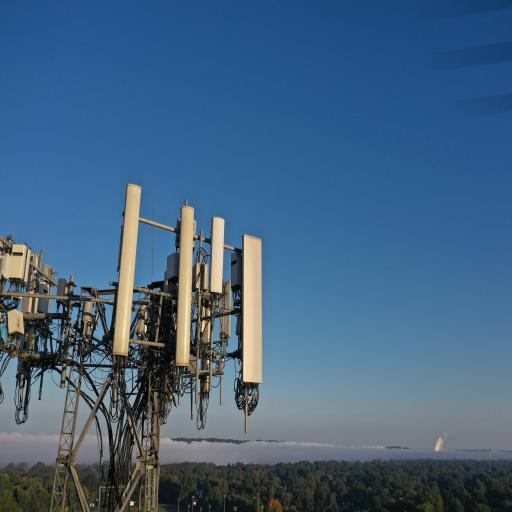supporting_tower: (0, 157, 295, 512)
